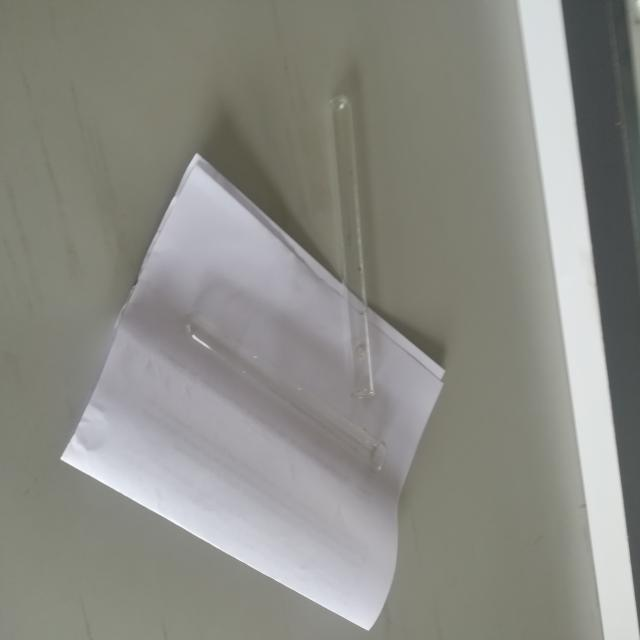Test_Tube: (171, 278, 399, 511), (315, 61, 413, 433)
